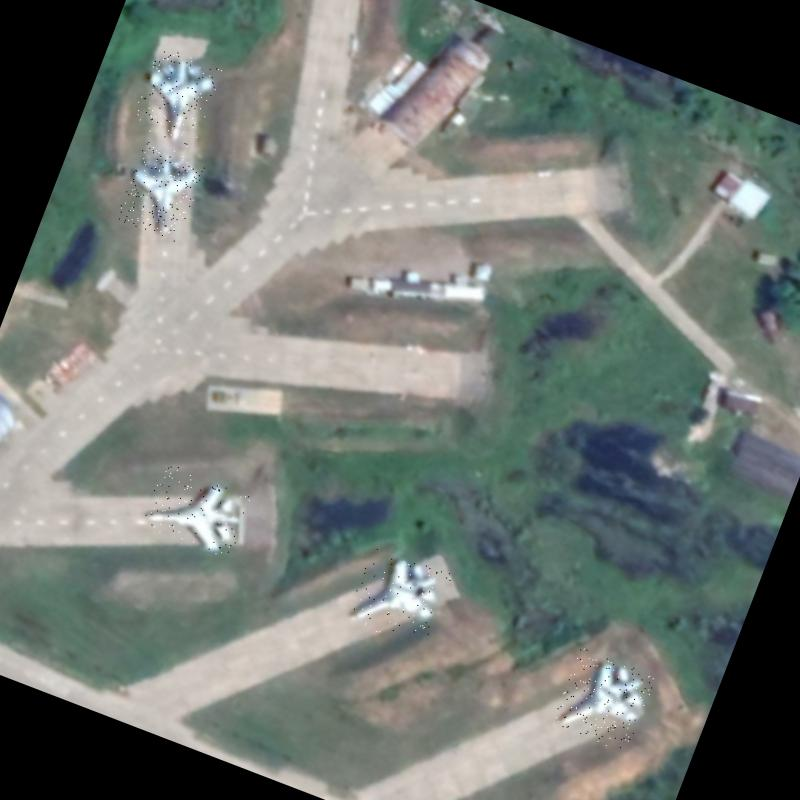A1: (344, 544, 452, 650), (551, 647, 657, 754), (139, 462, 254, 560), (128, 45, 222, 149), (115, 140, 207, 242)
